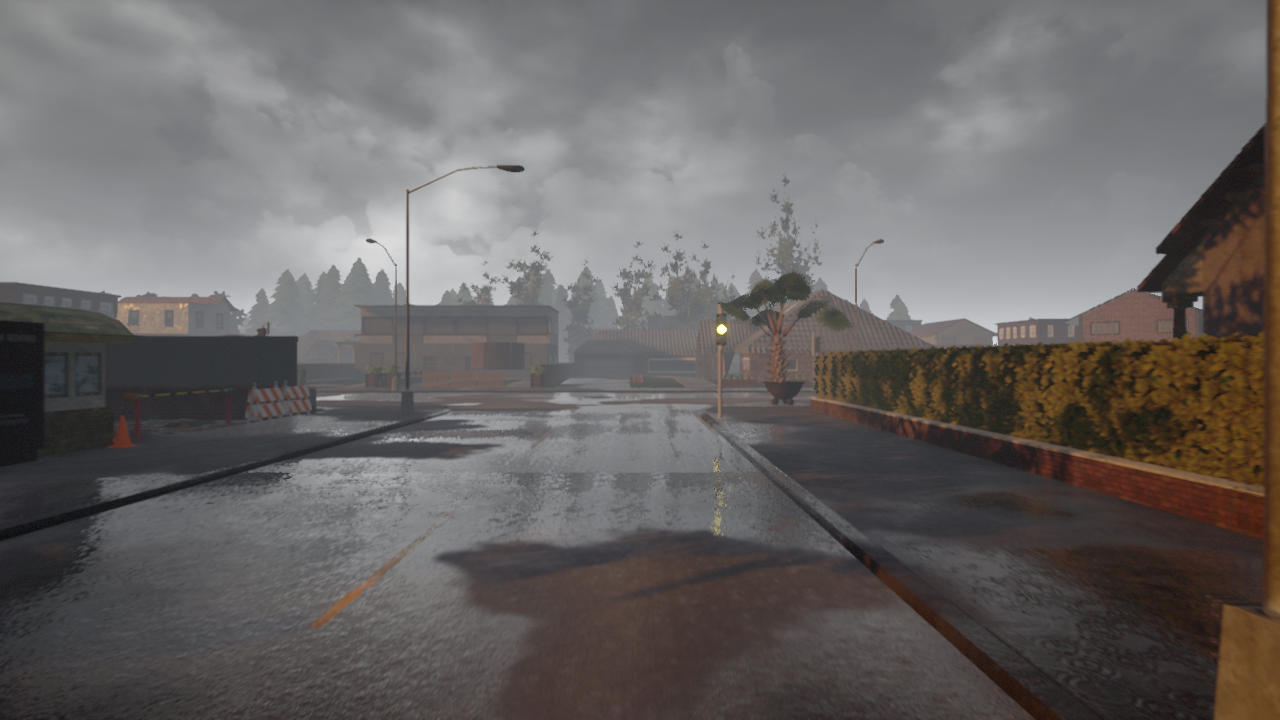yellow: (715, 312, 728, 346)
